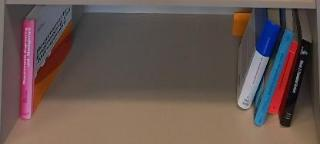book-spine: (235, 19, 282, 112), (253, 28, 295, 128), (280, 39, 312, 128), (268, 40, 298, 116), (20, 20, 35, 121)
